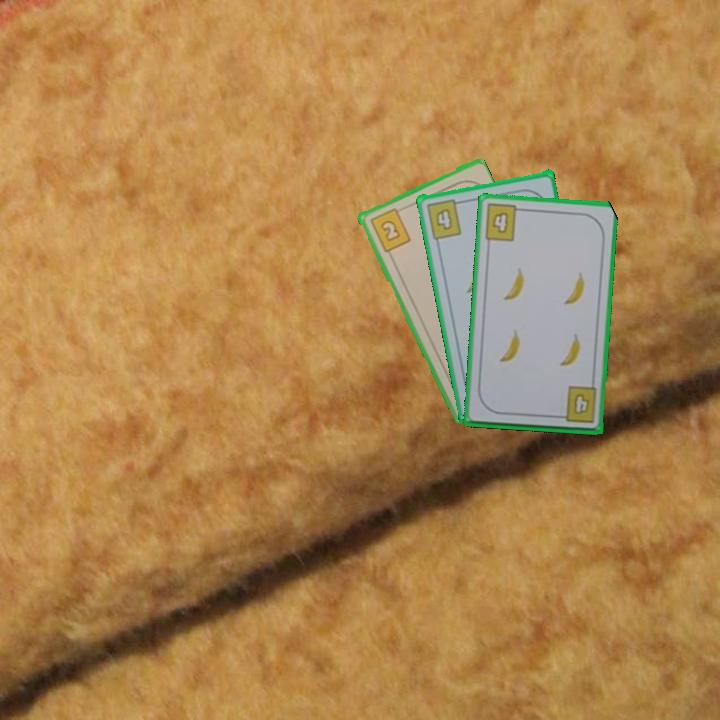2b: (366, 204, 413, 255)
4b: (422, 195, 466, 242), (481, 200, 527, 244), (554, 383, 599, 426)
